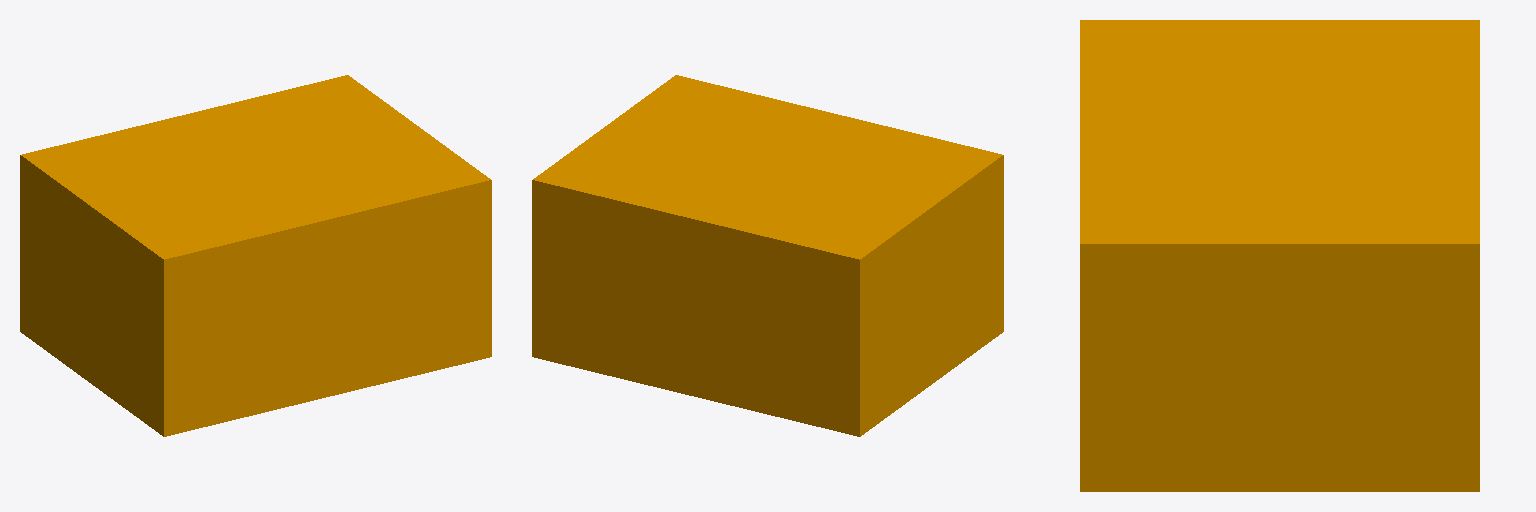
URDF robot description (2x2):
<?xml version='1.0' encoding='UTF-8'?>
<robot name="2x2">
  <link name="base_link">
    <inertial>
      <origin xyz="0.0 0.0 0.0" rpy="0.0 0.0 0.0"/>
      <mass value="0.1"/>
      <inertia ixx="0.1" ixy="0.0" ixz="0.0" iyy="0.1" iyz="0.0" izz="0.1"/>
    </inertial>
    <visual>
      <geometry>
        <box size="      0.029       0.022       0.015"/>
      </geometry>
      <material name=""/>
      <origin xyz="0.0 0.0 0.0" rpy="0.0 0.0 0.0"/>
    </visual>
    <collision>
      <geometry>
        <box size="      0.029       0.022       0.015"/>
      </geometry>
      <origin xyz="0.0 0.0 0.0" rpy="0.0 0.0 0.0"/>
    </collision>
  </link>
  <material name="">
    <color rgba="    0.84478     0.64925     0.28067           1"/>
  </material>
  <contact>
    <lateral_friction value="1.0"/>
    <rolling_friction value="0.0"/>
    <contact_cfm value="0.0"/>
    <contact_erp value="1.0"/>
  </contact>
</robot>

--- Facts derived from the render (not from the file) ---
The picture shows the robot from 3 angles, left to right: view 1: azimuth 30°, elevation 25°; view 2: azimuth 150°, elevation 25°; view 3: azimuth 270°, elevation 25°; orthographic projection.
Robot: 2x2 — 1 links, 0 joints (none); root link base_link; default pose: every joint at zero.
Links seen in each view (by area): view 1: base_link; view 2: base_link; view 3: base_link.
Boxes of the visible links, bbox=[...] form: base_link: bbox=[20, 75, 491, 436]; base_link: bbox=[532, 75, 1003, 436]; base_link: bbox=[1080, 20, 1479, 491].
Size in the robot's own frame: 0.029 by 0.022 by 0.015 metres.
Geometry: primitives only (box / cylinder / sphere), no mesh files.